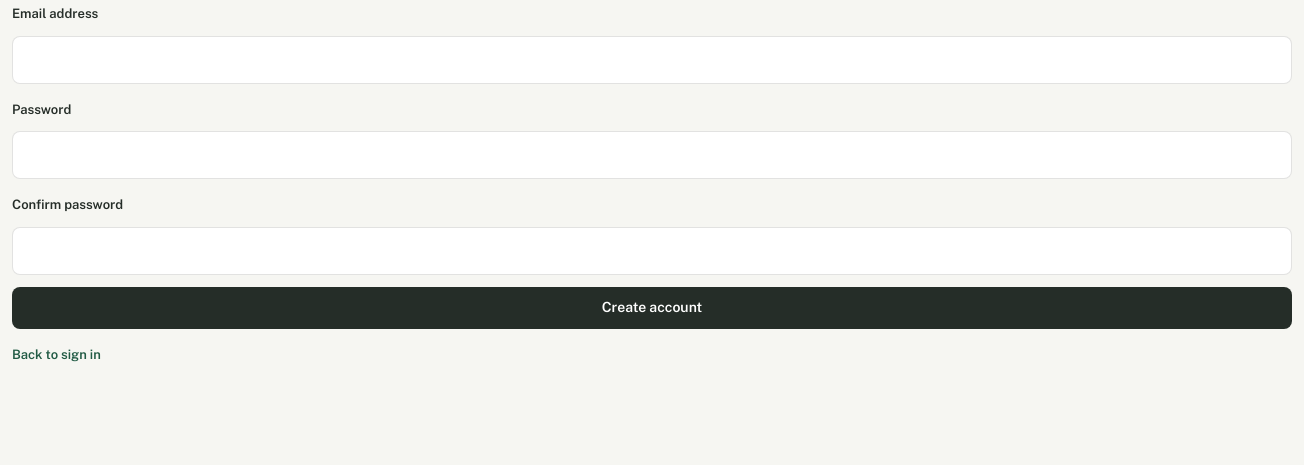
it: SignUpForm › rejects mismatched passwords before contacting Auth
Type "new@example.test" into the field labelled "Email address" at (652, 60), box [12, 36, 1292, 84]
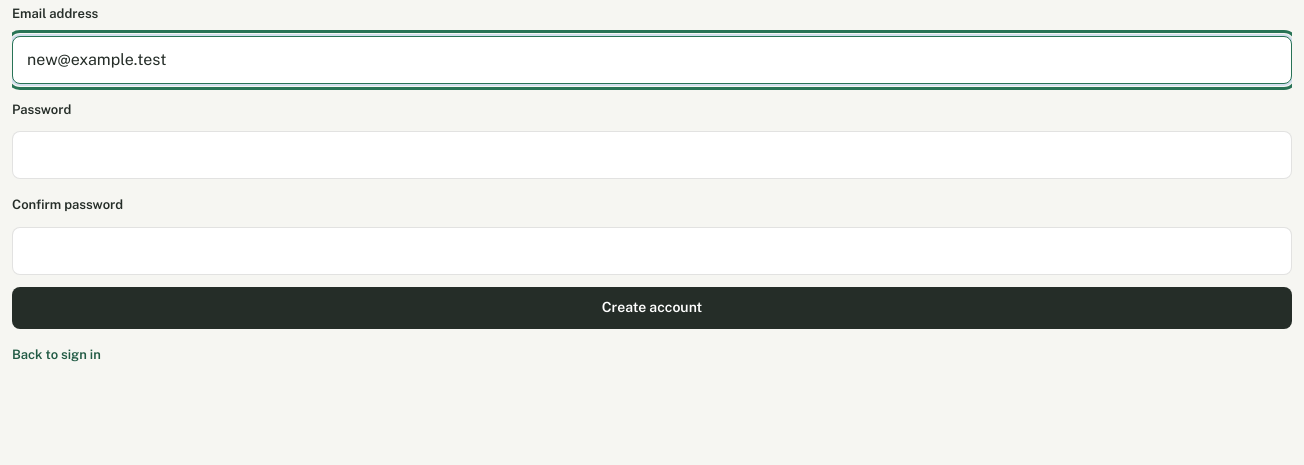
Type "secure-password" into the password field labelled "Password" at (652, 155), box [12, 131, 1292, 179]
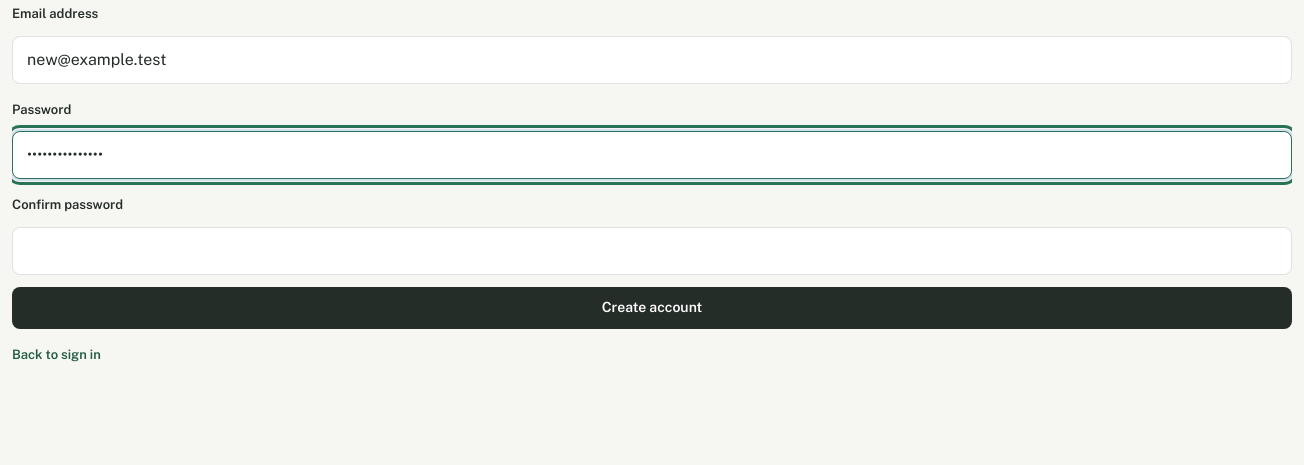
Type "different-password" into the password field labelled "Confirm password" at (652, 250), box [12, 226, 1292, 274]
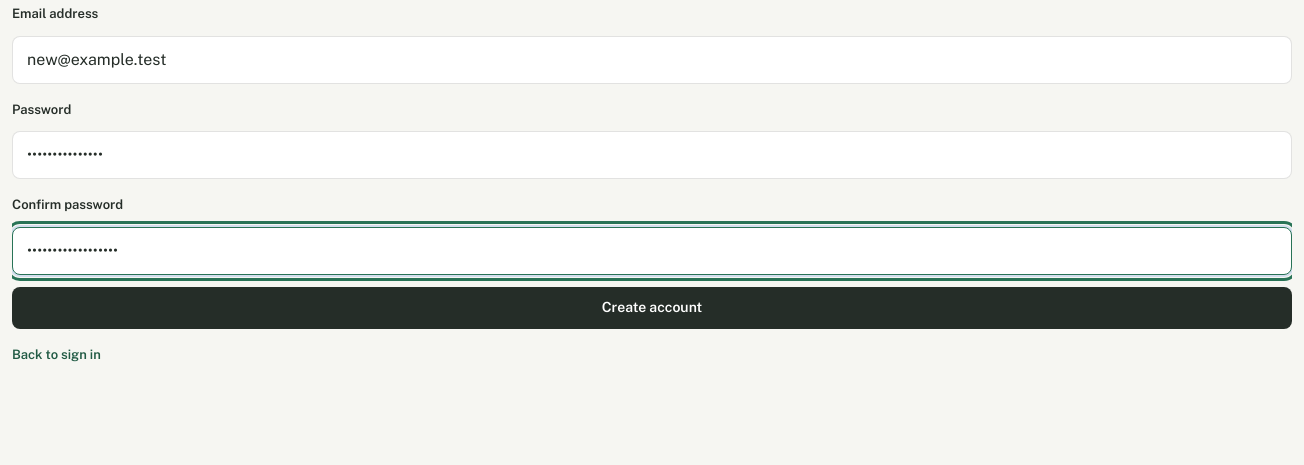
Click the button "Create account" at (652, 308), box [12, 286, 1292, 328]
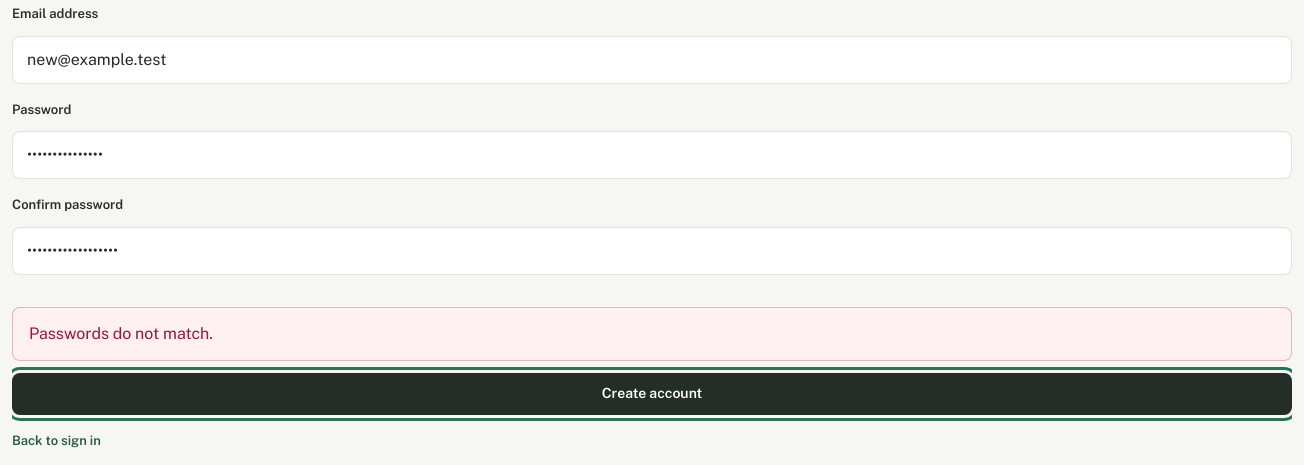
Now the message reads "Passwords do not match.", box [29, 324, 213, 342]
